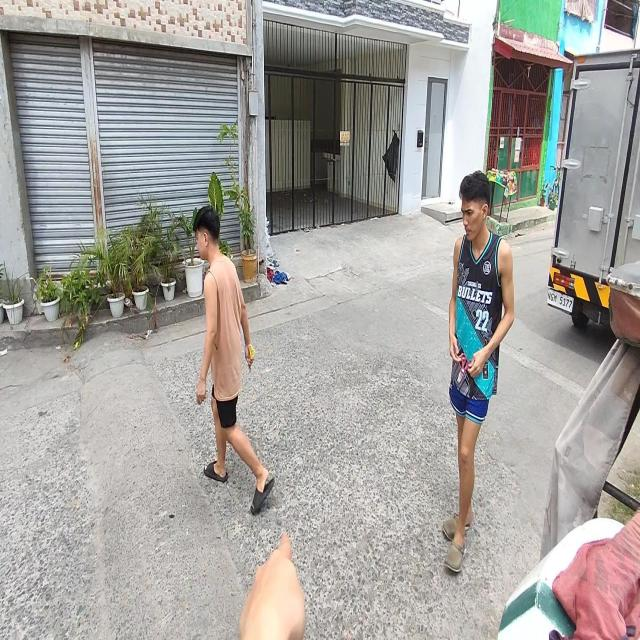scissor: (457, 354, 472, 384), (247, 343, 255, 372)
